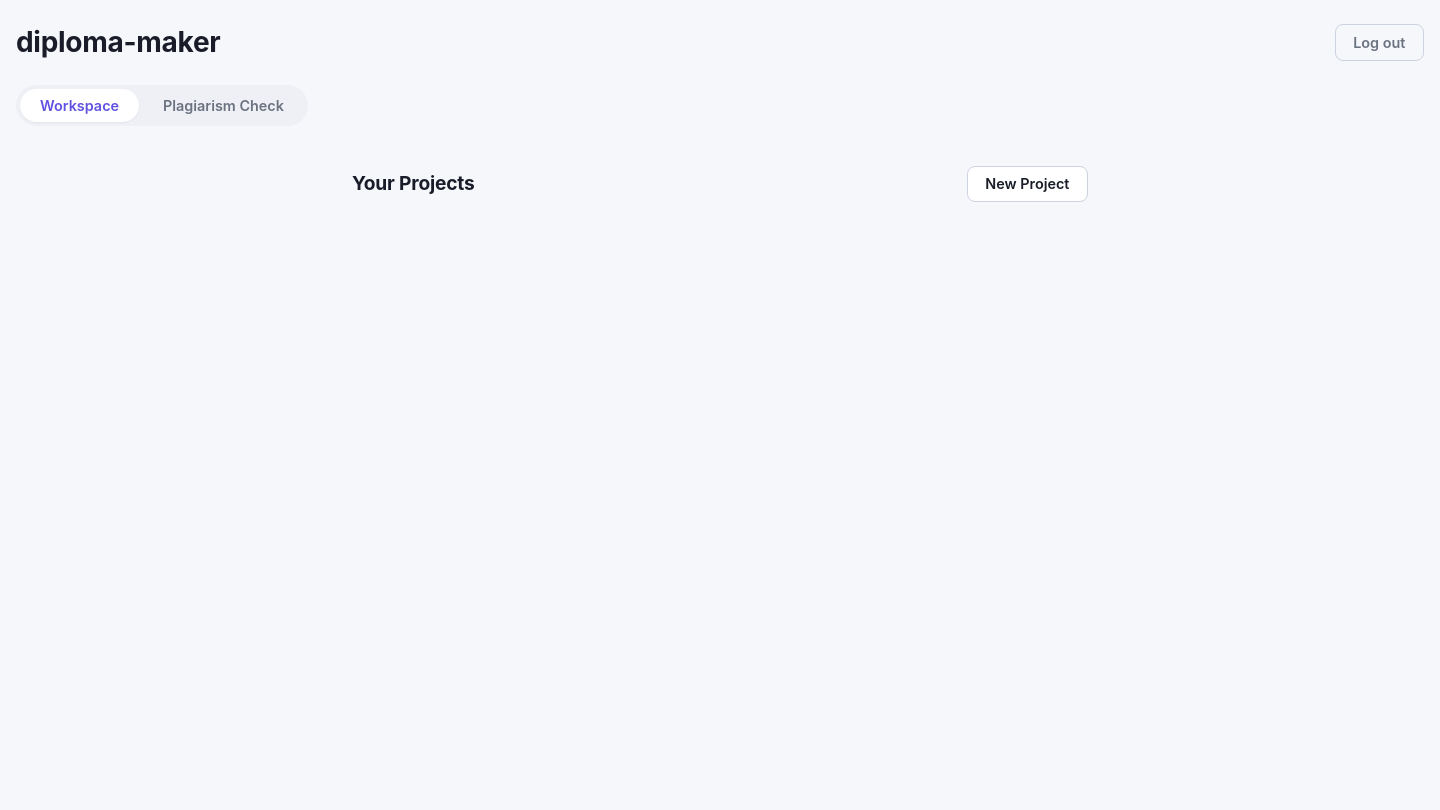
App › logging out returns to onboarding and clears the stored access token
The image size is (1440, 810).
Click the button "New Project": click(1027, 184) [967,166,1088,202]
(page scrolled)
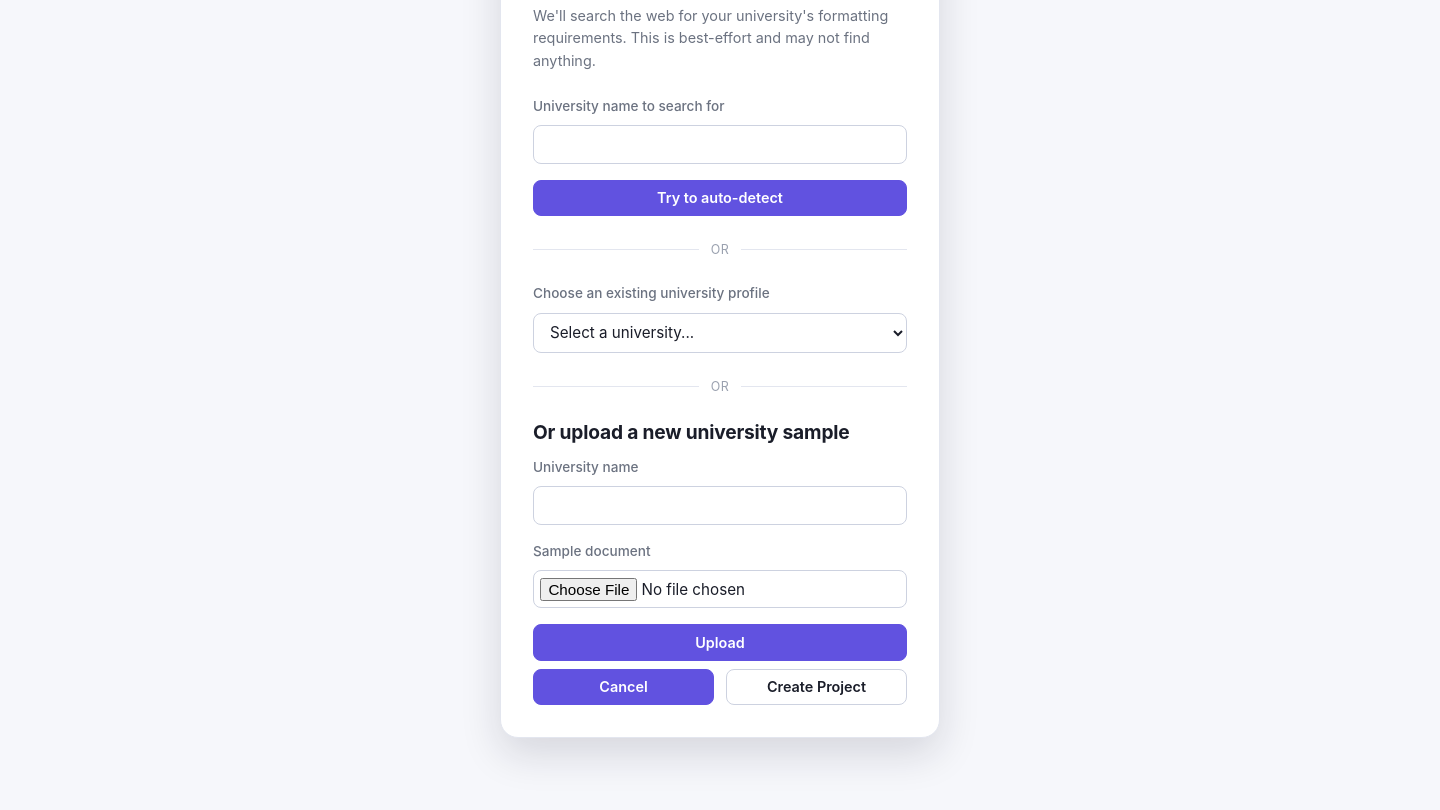
Click the button "Create Project": click(816, 687) [726,668,907,705]
(page scrolled)
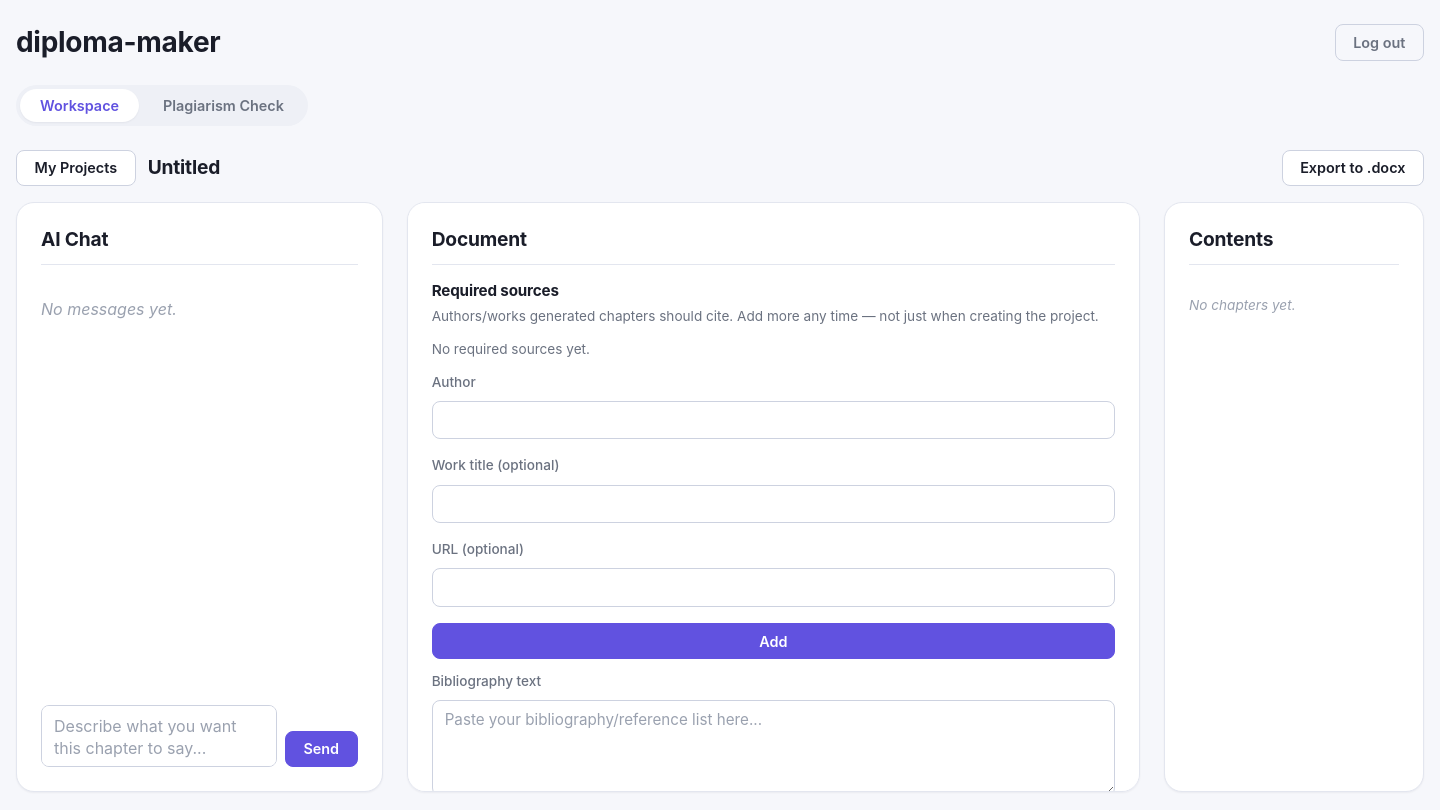
Result: the element labelled "AI Chat" is shown at [16,202,383,792]
Click the button "Log out": click(1379, 42) [1335,24,1424,61]
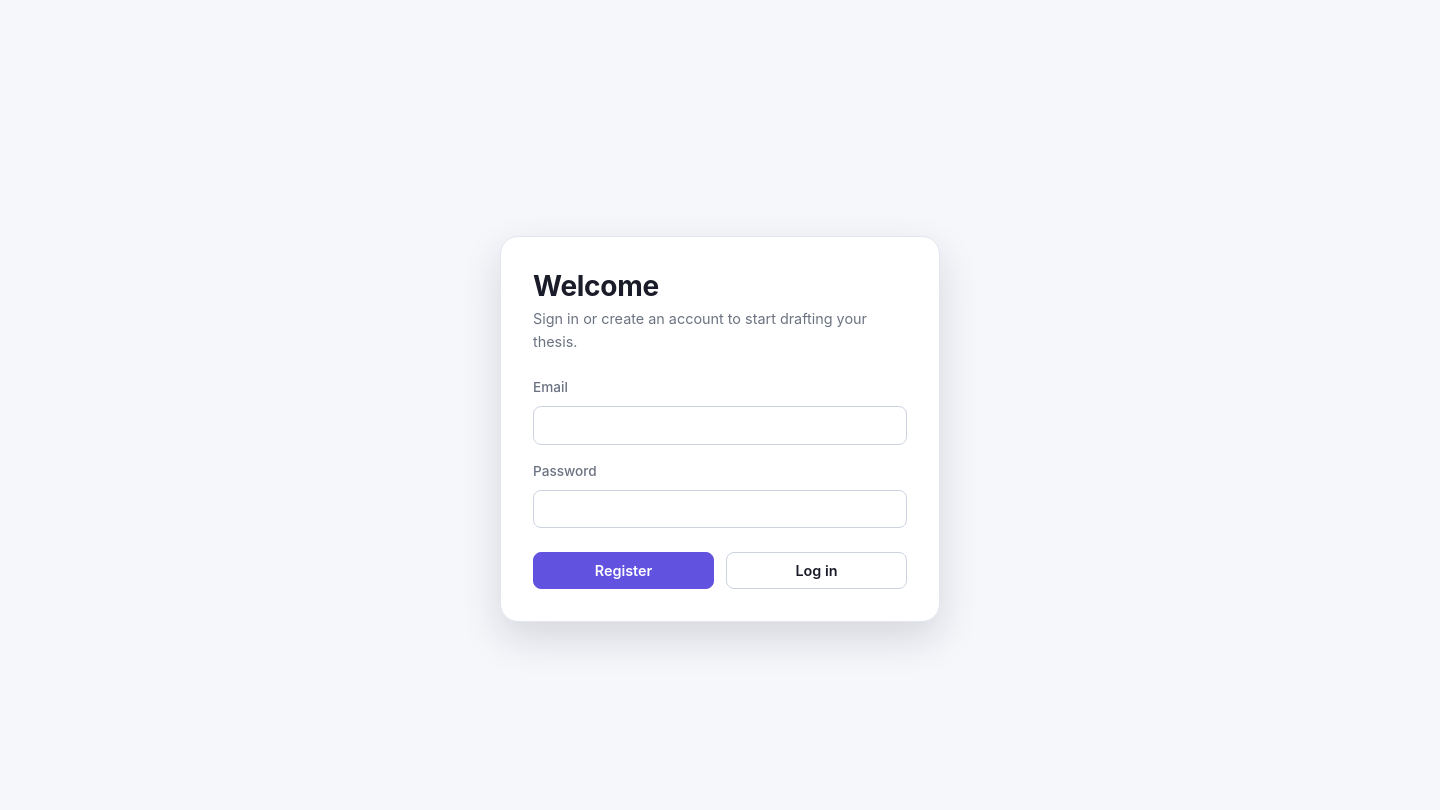
Result: the element labelled "Welcome" is shown at [500,236,940,622]
